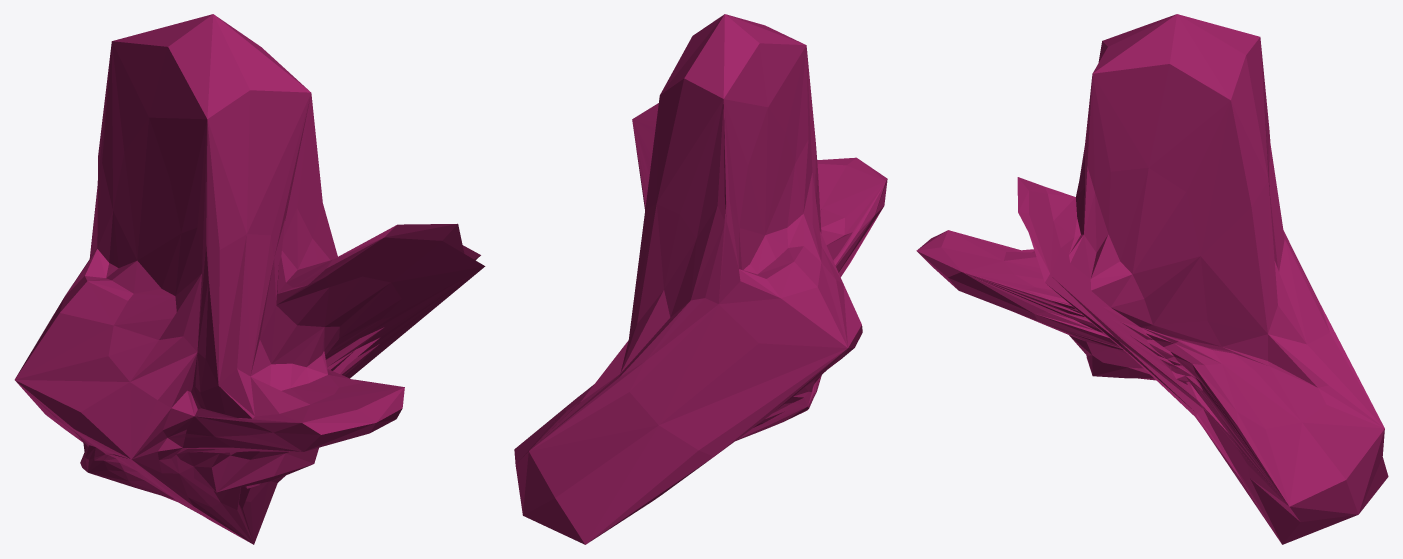
3 views of the same model, side by side, from view 1: azimuth 30°, elevation 25°; view 2: azimuth 150°, elevation 25°; view 3: azimuth 270°, elevation 25° (orthographic). The views are drawn at different scales.
Parts seen in each view (by area): view 1: 057_Cube.234; view 2: 057_Cube.234; view 3: 057_Cube.234.
Part boxes in pixels (x1,y1,x2,y2): 057_Cube.234: (14,14,485,544); 057_Cube.234: (514,14,887,544); 057_Cube.234: (916,14,1388,544).
Size of the model in its own units: 10.62 by 16.85 by 14.73.
